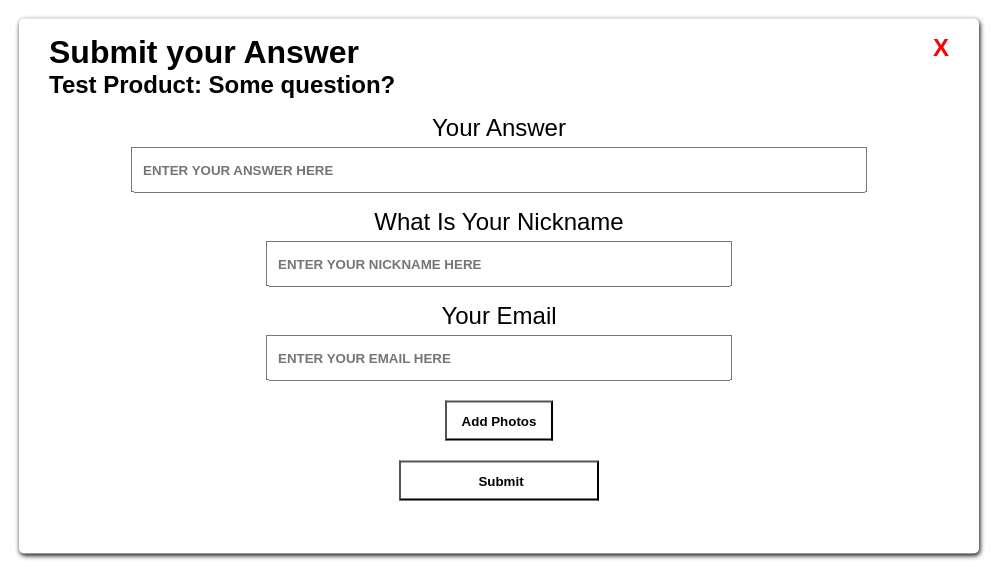
Test: Add answer › Should display Invalid information if add question form is filled out incorrectly
Step 1. Type "Test answer" into the field with placeholder "ENTER YOUR ANSWER HERE" → (499, 170), box [131, 146, 867, 192]
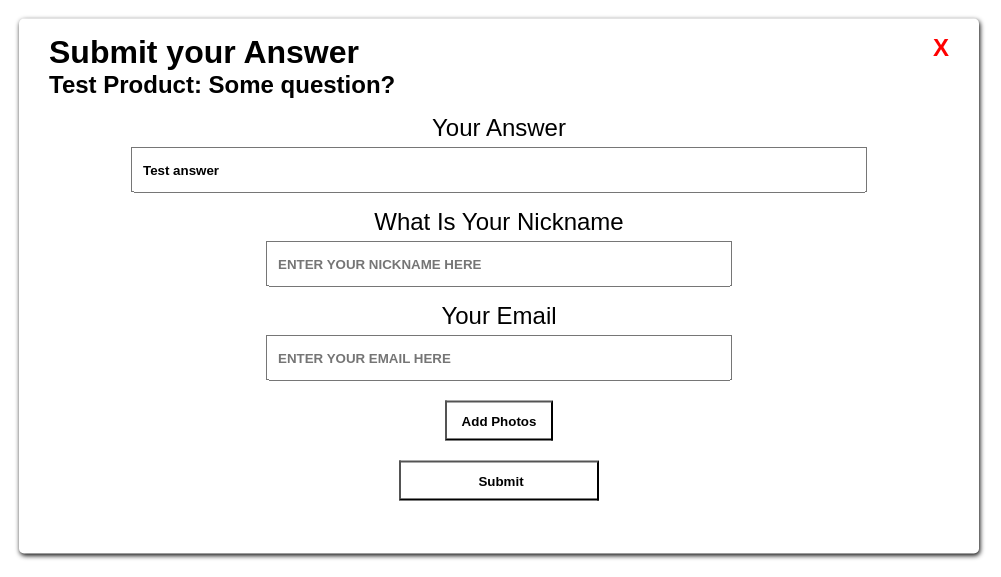
Step 2. Type "TestNickname" into the field with placeholder "ENTER YOUR NICKNAME HERE" → (499, 264), box [266, 240, 732, 286]
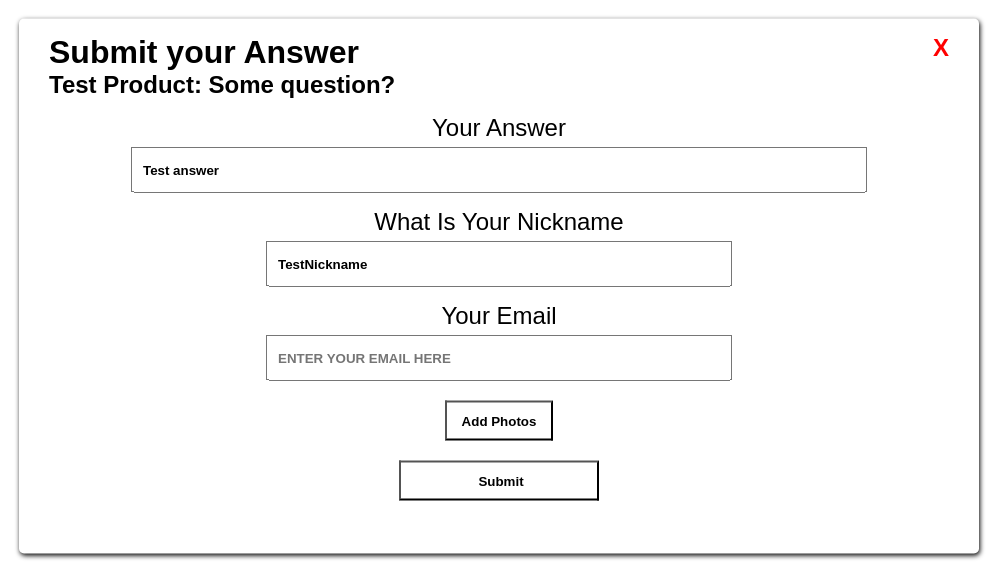
Step 3. Type "test" into the field with placeholder "ENTER YOUR EMAIL HERE" → (499, 358), box [266, 334, 732, 380]
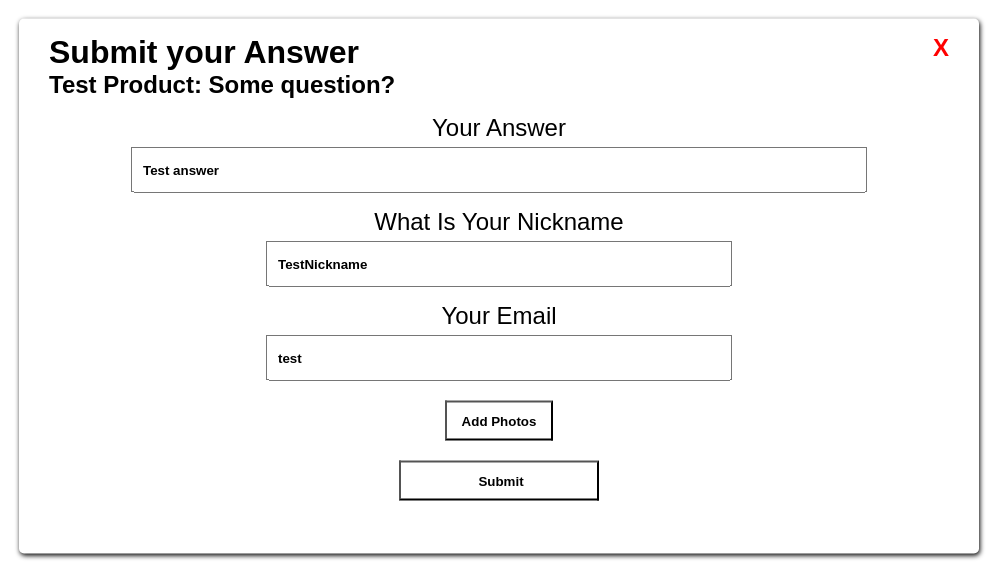
Step 4. Click the button with test id "qa-addQuestion-submit" → (499, 480), box [399, 460, 599, 500]
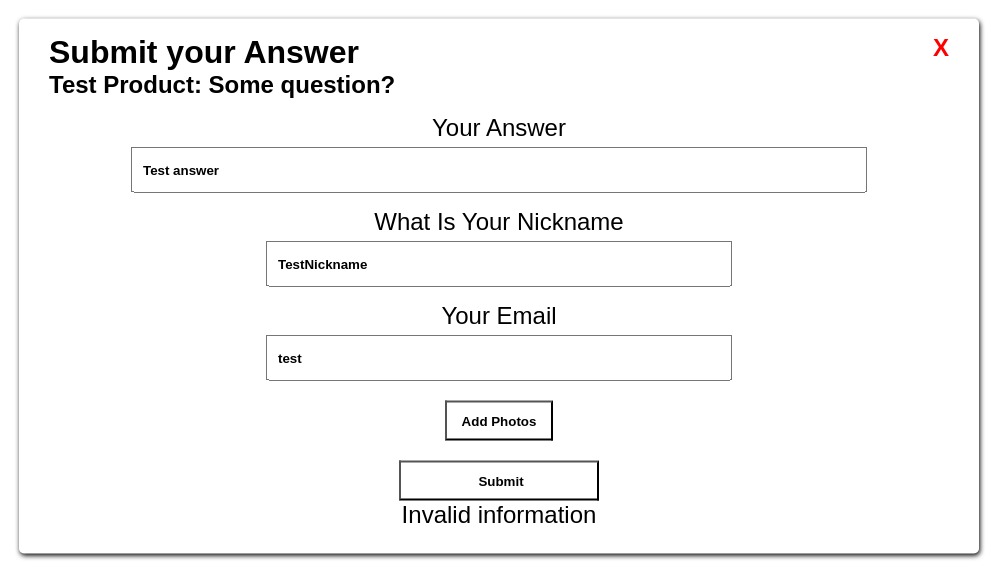
Expected: the text "Invalid information" is shown, [402, 500, 596, 528]
